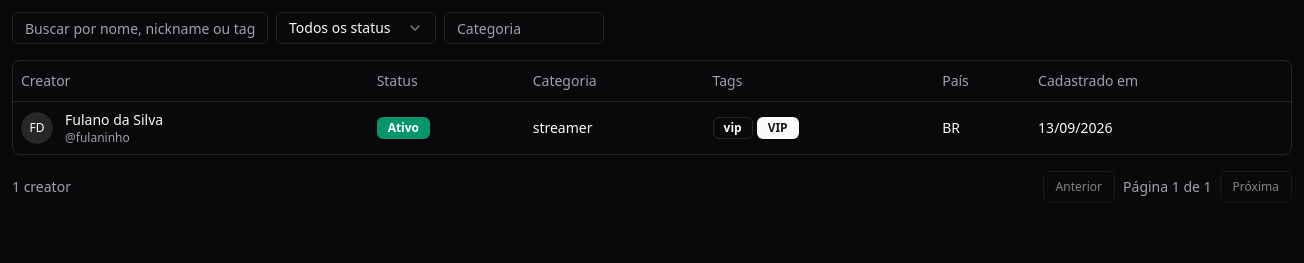
CreatorTable › filters out rows when the search does not match and reflects it in the URL
Expected: the text "Fulano da Silva" is shown, [65, 110, 163, 130]
Type "zzz" into the field with placeholder "Buscar por nome, nickname ou tag..." at (140, 28), box [12, 12, 268, 44]
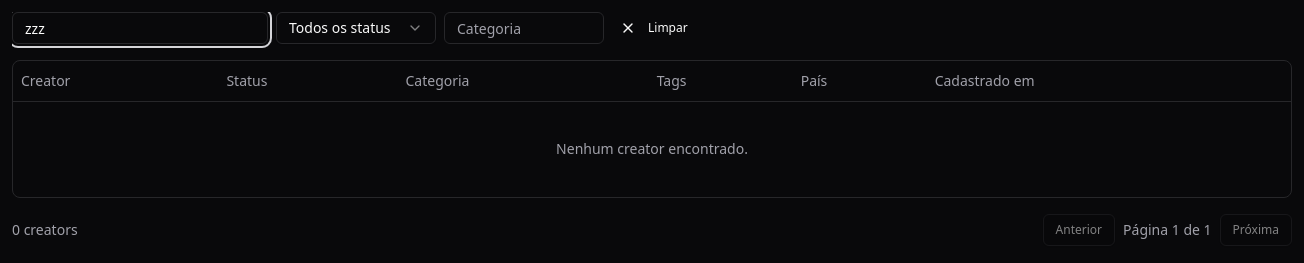
Expected: the text "Nenhum creator encontrado." is shown, [13, 101, 1291, 197]
